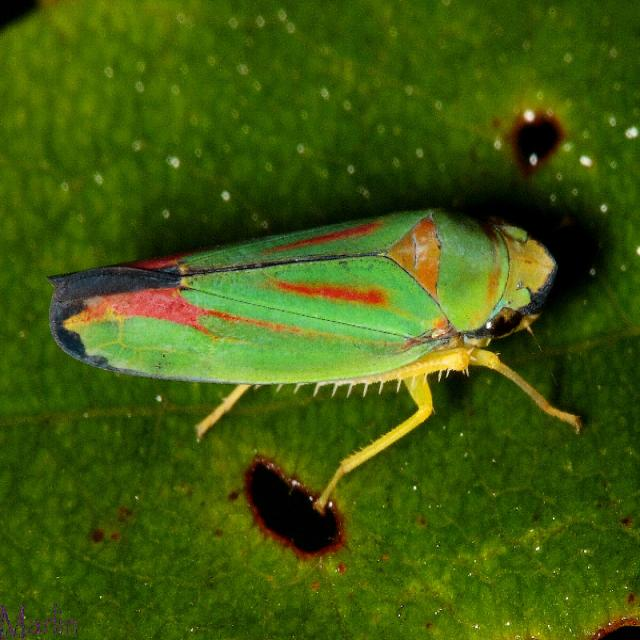Yechan: (41, 186, 582, 468)
